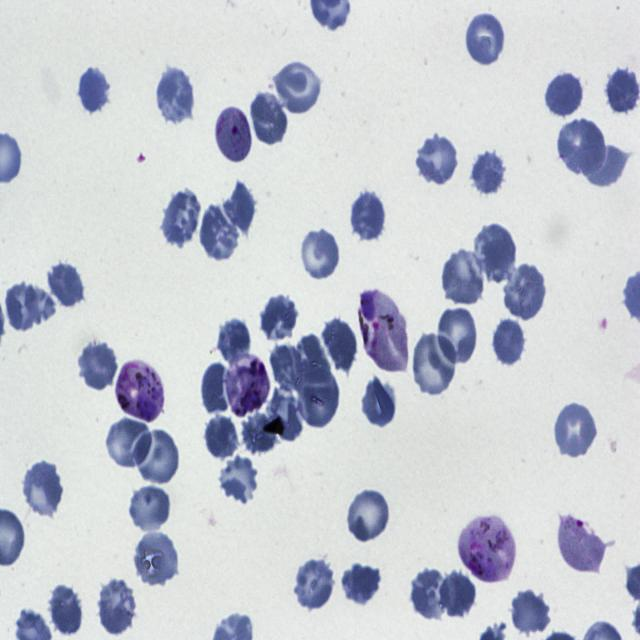difficult: (456, 515, 516, 585)
red blood cell: (558, 115, 607, 179), (412, 331, 458, 398), (272, 57, 323, 116), (295, 365, 340, 431), (502, 260, 548, 322), (21, 456, 65, 519), (553, 400, 599, 460), (134, 427, 180, 487), (132, 531, 180, 588), (440, 248, 486, 306), (436, 304, 479, 366), (474, 221, 517, 283), (345, 487, 392, 543), (570, 145, 631, 187), (97, 575, 138, 637), (160, 188, 203, 247), (106, 416, 153, 469), (199, 204, 241, 262), (415, 132, 460, 186), (292, 556, 336, 610), (155, 67, 195, 126), (213, 456, 259, 506), (465, 11, 506, 67), (128, 483, 173, 534), (4, 280, 48, 331), (250, 90, 288, 148), (78, 339, 119, 392), (321, 317, 359, 374), (347, 188, 384, 246), (411, 567, 450, 622), (200, 362, 239, 417), (46, 259, 87, 311), (266, 388, 305, 442), (510, 586, 552, 636), (221, 180, 258, 236), (214, 316, 251, 370), (470, 148, 509, 198), (301, 230, 340, 280), (48, 583, 84, 637), (361, 376, 396, 429), (260, 292, 297, 342), (76, 63, 112, 114), (546, 71, 584, 119), (339, 562, 381, 605), (440, 568, 475, 619), (491, 320, 527, 369), (270, 340, 303, 392), (605, 67, 640, 115), (204, 412, 239, 460), (242, 411, 278, 452)
ring: (556, 512, 606, 574), (214, 106, 253, 164)
trophozoite: (359, 288, 407, 371), (116, 359, 164, 422), (226, 354, 270, 419)
